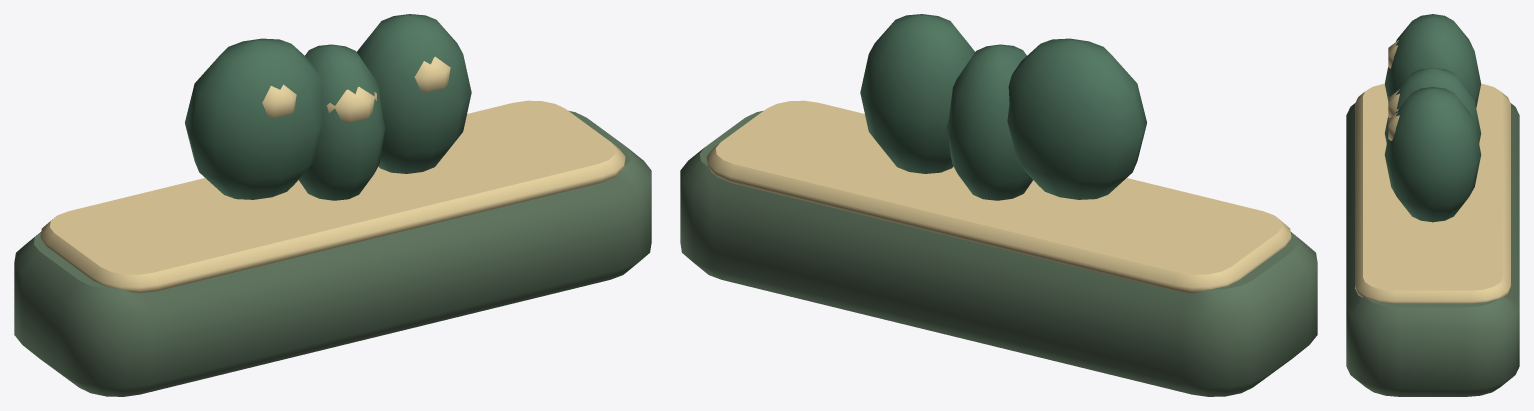
File: planter_3.glb
3 renders of one model, left to right at view 1: azimuth 30°, elevation 25°; view 2: azimuth 150°, elevation 25°; view 3: azimuth 270°, elevation 25°, orthographic. The views are drawn at different scales.
Parts seen in each view (by area): view 1: Planter; view 2: Planter; view 3: Planter.
Boxes of the visible parts, bbox=[...] form: Planter: bbox=[14, 14, 651, 396]; Planter: bbox=[680, 14, 1317, 396]; Planter: bbox=[1346, 14, 1519, 396].
Size of the model in its own units: 2.55 by 1.19 by 0.79.
